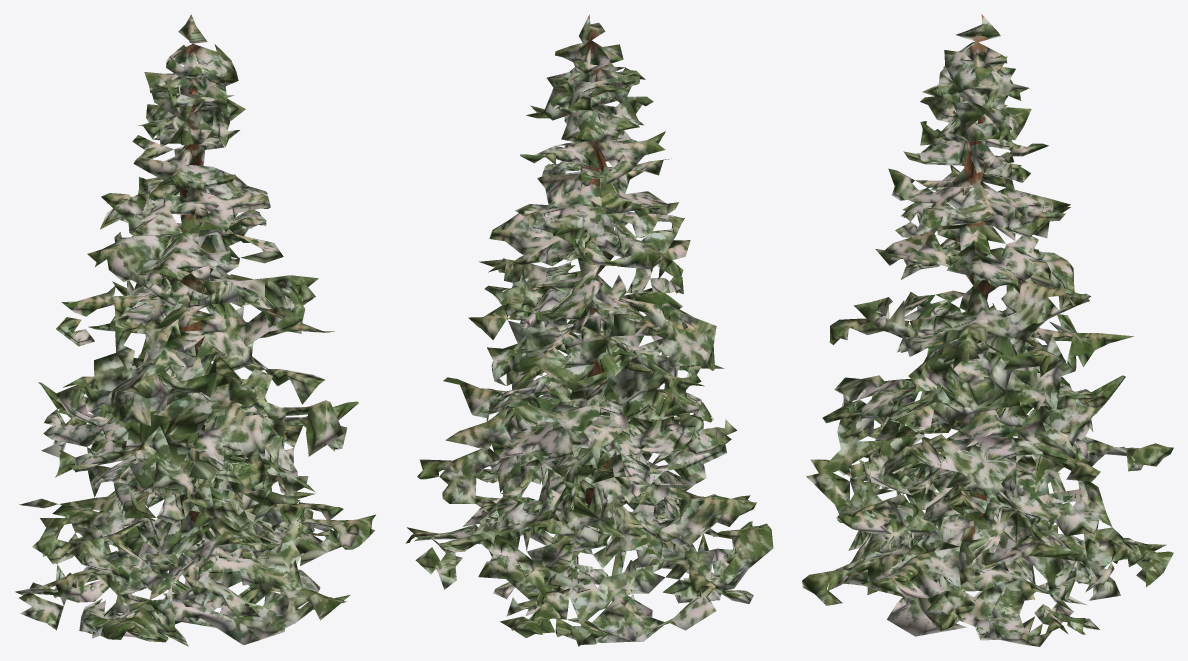
Rendered from tree_pine1.glb.
3 views of the same model, side by side, from view 1: azimuth 30°, elevation 25°; view 2: azimuth 150°, elevation 25°; view 3: azimuth 270°, elevation 25° (orthographic). The views are drawn at different scales.
Bounding box in the file's own units: 0.4329 × 0.7503 × 0.4246.
1 material, 1 textured.
